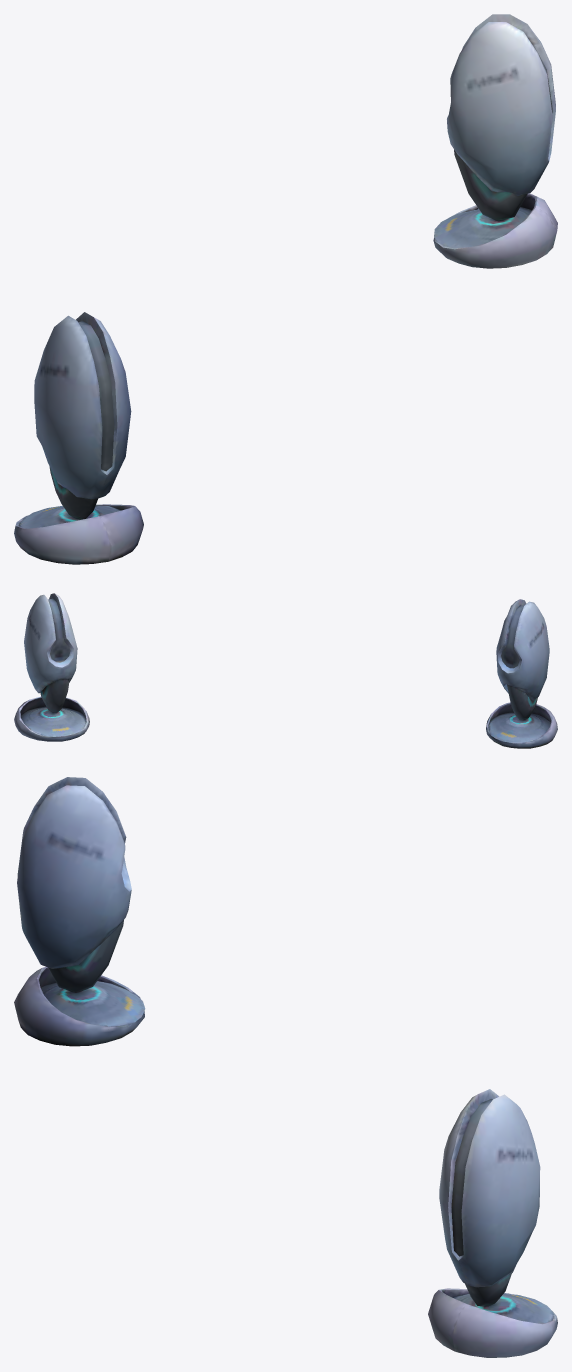
Rendered from pref_sm_4v4beachtech_bk_centerblock_L01d_lv0.fbx.
3 renders of one model, top to bottom at view 1: azimuth 30°, elevation 25°; view 2: azimuth 150°, elevation 25°; view 3: azimuth 270°, elevation 25°, orthographic. The views are drawn at different scales.
Parts seen in each view (by area): view 1: sm_4v4beachtech_bk_centerblock_L01d_lv0; view 2: sm_4v4beachtech_bk_centerblock_L01d_lv0; view 3: sm_4v4beachtech_bk_centerblock_L01d_lv0.
Boxes of the visible parts, x1=… form: sm_4v4beachtech_bk_centerblock_L01d_lv0: x1=14, y1=14, x2=557, y2=564; sm_4v4beachtech_bk_centerblock_L01d_lv0: x1=14, y1=593, x2=557, y2=748; sm_4v4beachtech_bk_centerblock_L01d_lv0: x1=14, y1=777, x2=557, y2=1357.
Bounding box in the file's own units: 11.64 × 3.54 × 7.16.
